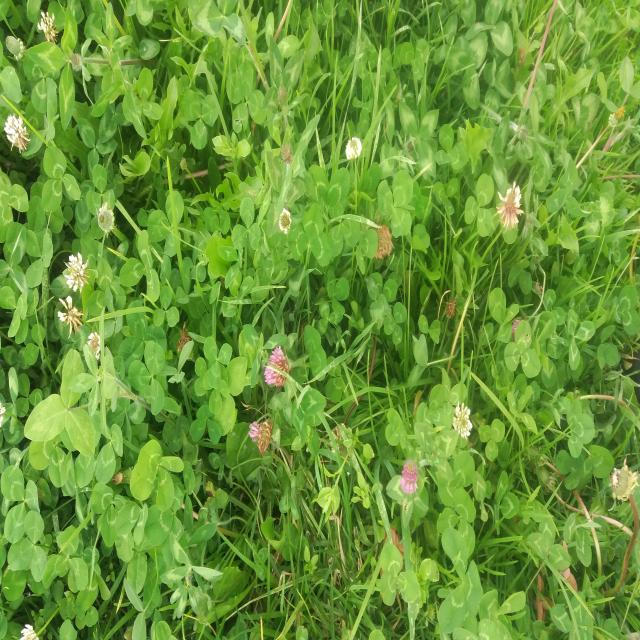Four Leaf Clover: (129, 439, 184, 512)
